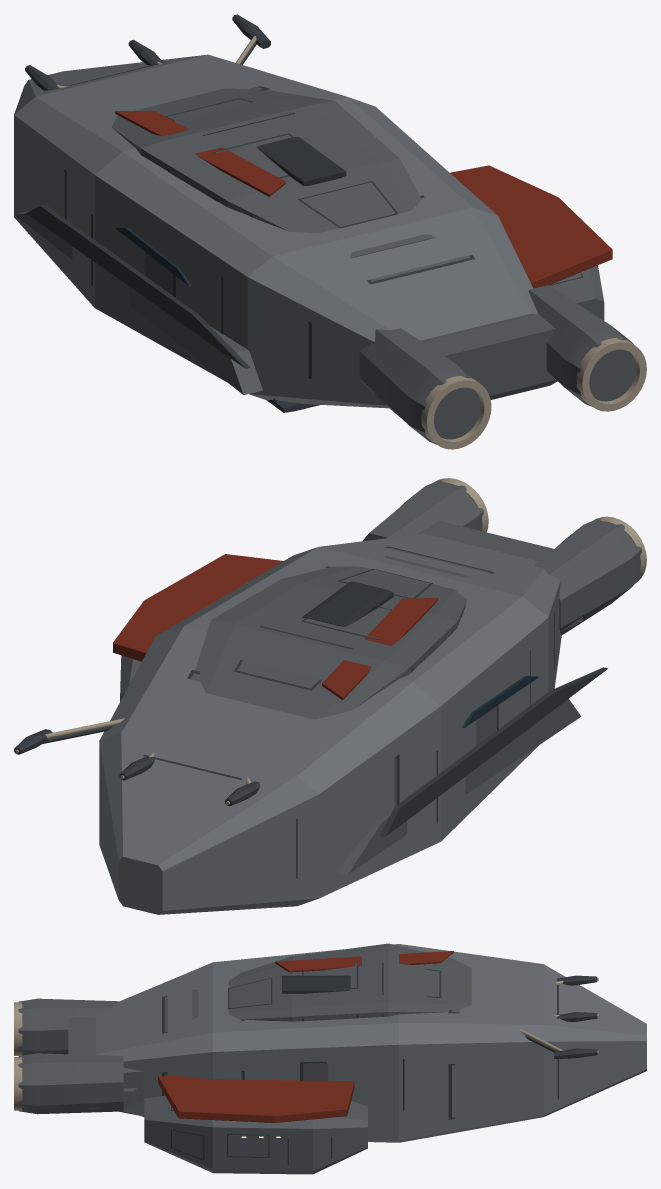
File: cruiser_forge_citadel.glb
3 renders of one model, top to bottom at view 1: azimuth 30°, elevation 25°; view 2: azimuth 150°, elevation 25°; view 3: azimuth 270°, elevation 25°, orthographic. The views are drawn at different scales.
Visible parts, largest first — view 1: v4_forge_hull, v4_forge_secondary, v4_forge_paint, v4_forge_dark, v4_forge_trim, v4_forge_ceramic, v4_forge_glass; view 2: v4_forge_hull, v4_forge_secondary, v4_forge_paint, v4_forge_dark, v4_forge_ceramic, v4_forge_trim, v4_forge_glass; view 3: v4_forge_hull, v4_forge_secondary, v4_forge_paint, v4_forge_dark, v4_forge_ceramic, v4_forge_trim.
Boxes of the visible parts, bbox=[...] form: v4_forge_hull: bbox=[14, 54, 537, 408]; v4_forge_secondary: bbox=[14, 87, 636, 444]; v4_forge_paint: bbox=[115, 110, 612, 288]; v4_forge_dark: bbox=[25, 14, 582, 412]; v4_forge_trim: bbox=[56, 36, 646, 449]; v4_forge_ceramic: bbox=[257, 137, 346, 401]; v4_forge_glass: bbox=[115, 227, 191, 286]; v4_forge_hull: bbox=[99, 533, 561, 914]; v4_forge_secondary: bbox=[55, 480, 641, 874]; v4_forge_paint: bbox=[113, 554, 438, 700]; v4_forge_dark: bbox=[14, 546, 607, 878]; v4_forge_ceramic: bbox=[302, 581, 393, 626]; v4_forge_trim: bbox=[15, 478, 646, 804]; v4_forge_glass: bbox=[462, 676, 538, 727]; v4_forge_hull: bbox=[96, 944, 646, 1142]; v4_forge_secondary: bbox=[18, 943, 556, 1174]; v4_forge_paint: bbox=[158, 951, 453, 1122]; v4_forge_dark: bbox=[119, 961, 597, 1164]; v4_forge_ceramic: bbox=[282, 975, 350, 993]; v4_forge_trim: bbox=[14, 978, 598, 1155].
Bounding box in the file's own units: 53.46 × 26.01 × 106.
